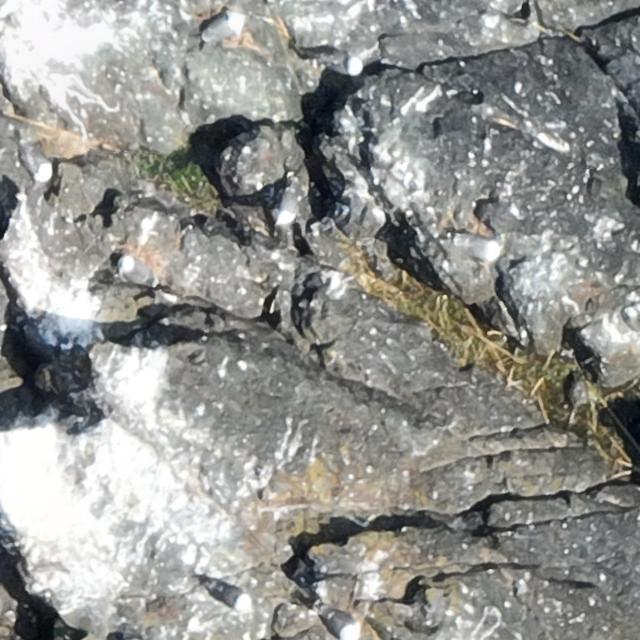umineko: (118, 256, 162, 293), (451, 234, 502, 258), (314, 51, 362, 76), (278, 176, 302, 223), (324, 611, 356, 638), (26, 147, 51, 181), (211, 583, 246, 607), (205, 16, 237, 38)
